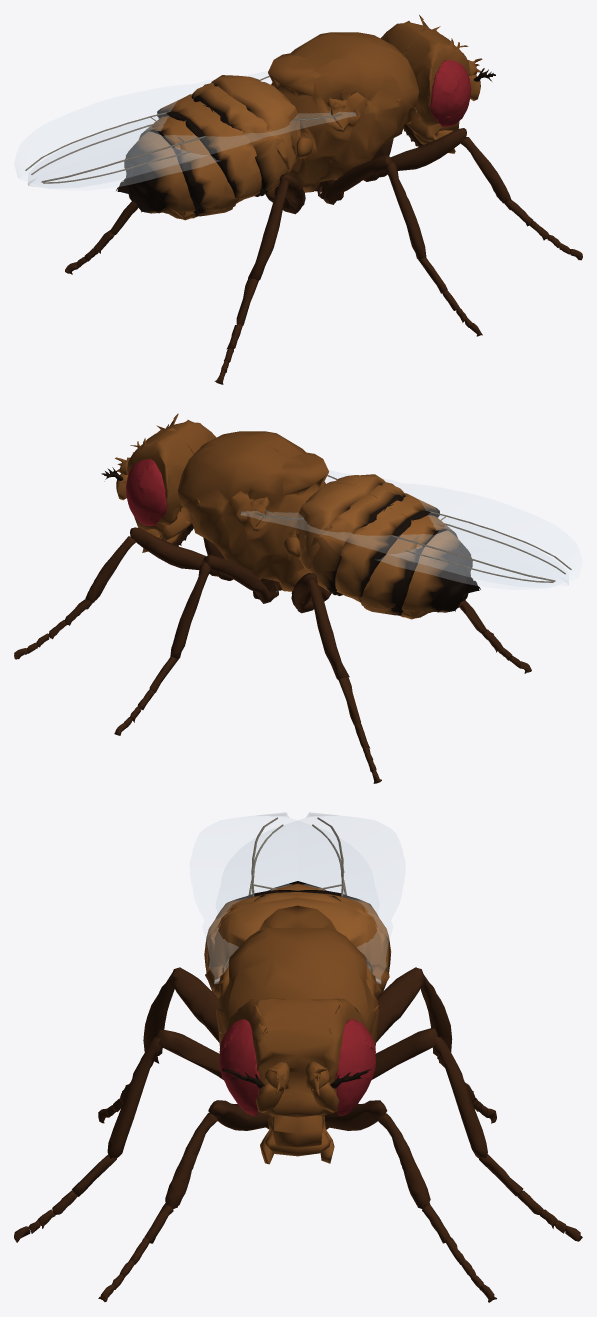
File: fly.glb
3 views of the same model, one above another, from view 1: azimuth 30°, elevation 25°; view 2: azimuth 150°, elevation 25°; view 3: azimuth 270°, elevation 25° (orthographic). The views are drawn at different scales.
Visible parts, largest first — view 1: c_thorax, l_wing, r_wing, c_head, rf_trochanterfemur, rh_tibia, rm_tibia, rm_trochanterfemur, rh_tarsus1, rf_tibia, lh_tarsus1, rm_tarsus1 (+2 smaller); view 2: c_thorax, r_wing, l_wing, c_head, lf_trochanterfemur, lh_tibia, lm_tibia, lm_trochanterfemur, lh_tarsus1, lf_tibia, rh_tarsus1, lm_tarsus1 (+2 smaller); view 3: c_thorax, c_head, l_wing, r_wing, lm_tibia, rm_tibia, lh_trochanterfemur, rh_trochanterfemur, rf_tibia, lf_tibia, lm_trochanterfemur, rm_trochanterfemur (+8 smaller).
Part boxes in pixels (x1,y1,x2,y2): c_thorax: [116, 32, 419, 220]; l_wing: [14, 71, 271, 190]; r_wing: [28, 111, 355, 188]; c_head: [380, 15, 495, 153]; rf_trochanterfemur: [379, 128, 466, 177]; rh_tibia: [248, 180, 289, 280]; rm_tibia: [386, 161, 426, 259]; rm_trochanterfemur: [323, 155, 394, 204]; rh_tarsus1: [214, 277, 258, 384]; rf_tibia: [460, 137, 511, 203]; lh_tarsus1: [65, 201, 138, 274]; rm_tarsus1: [418, 257, 482, 336]; c_thorax: [177, 431, 480, 619]; r_wing: [325, 470, 582, 589]; l_wing: [241, 510, 568, 587]; c_head: [101, 413, 216, 552]; lf_trochanterfemur: [130, 527, 217, 576]; lh_tibia: [308, 579, 349, 679]; lm_tibia: [170, 560, 211, 659]; lm_trochanterfemur: [202, 554, 273, 603]; lh_tarsus1: [338, 676, 381, 783]; lf_tibia: [85, 536, 135, 602]; rh_tarsus1: [458, 600, 531, 673]; lm_tarsus1: [114, 657, 178, 735]; c_thorax: [204, 881, 391, 1046]; c_head: [219, 997, 376, 1164]; l_wing: [216, 812, 405, 983]; r_wing: [190, 812, 379, 983]; lm_tibia: [432, 1037, 487, 1158]; rm_tibia: [107, 1036, 162, 1158]; lh_trochanterfemur: [376, 967, 424, 1042]; rh_trochanterfemur: [170, 967, 219, 1042]; rf_tibia: [165, 1113, 217, 1208]; lf_tibia: [378, 1113, 430, 1208]; lm_trochanterfemur: [372, 1027, 437, 1079]; rm_trochanterfemur: [157, 1029, 223, 1079].
Bounding box in the file's own units: 2.09 × 0.9919 × 1.64.
